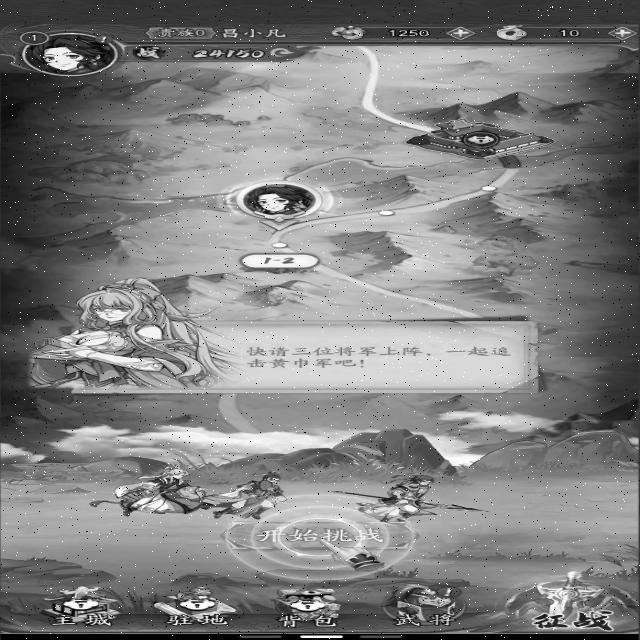hint-guide: (24, 276, 547, 400), (224, 494, 422, 581)
hint-reddot: (434, 580, 468, 602), (90, 33, 117, 45)
navigation-fight: (494, 571, 636, 633)
navigation-hero: (380, 584, 478, 631)
navigation-role: (2, 17, 148, 84)
navigation-station-off: (149, 582, 242, 629)
operation-confirm: (228, 521, 417, 551)
